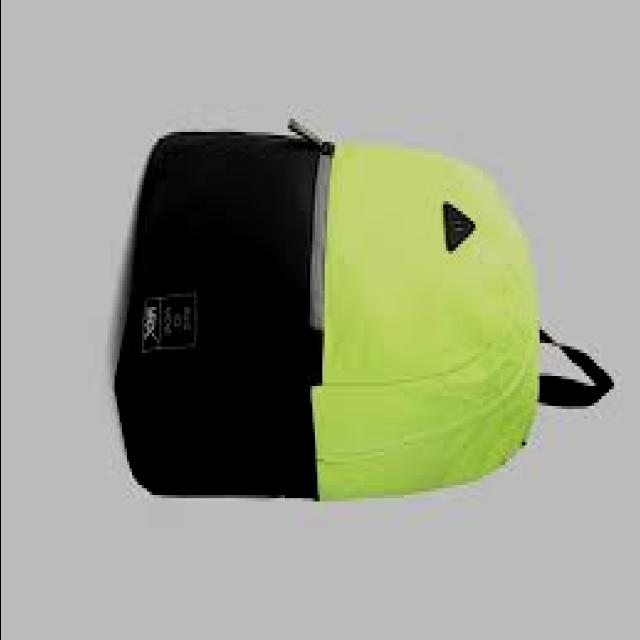backpack: (115, 117, 617, 503)
